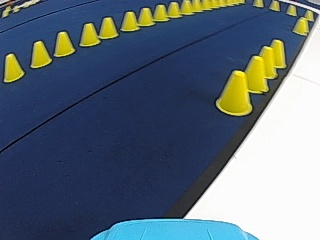cone: (216, 71, 252, 115), (242, 55, 269, 93), (257, 45, 277, 79), (3, 52, 25, 82), (29, 40, 51, 68), (53, 31, 75, 56), (268, 39, 286, 69), (79, 22, 99, 46), (99, 16, 118, 39), (121, 11, 138, 32), (138, 7, 154, 27), (292, 17, 309, 34), (153, 4, 168, 21), (167, 2, 181, 18), (181, 0, 193, 15), (286, 4, 296, 16), (192, 0, 202, 12), (269, 0, 279, 11)
